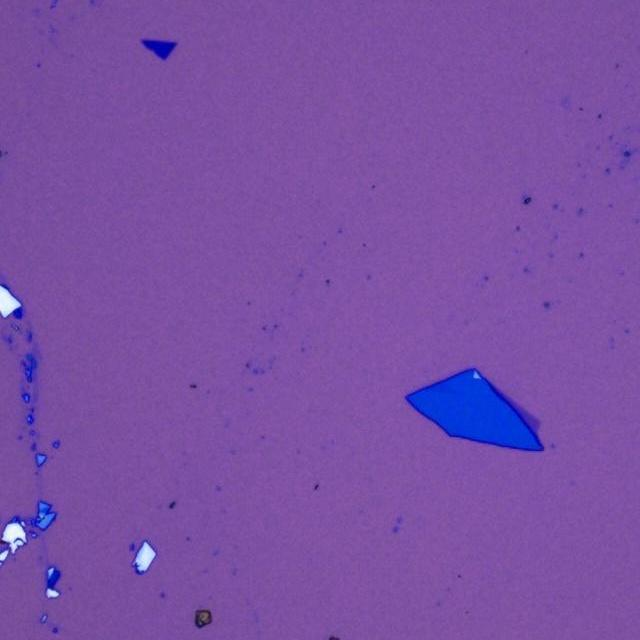monolayer-eWW4: (496, 386, 544, 434)
